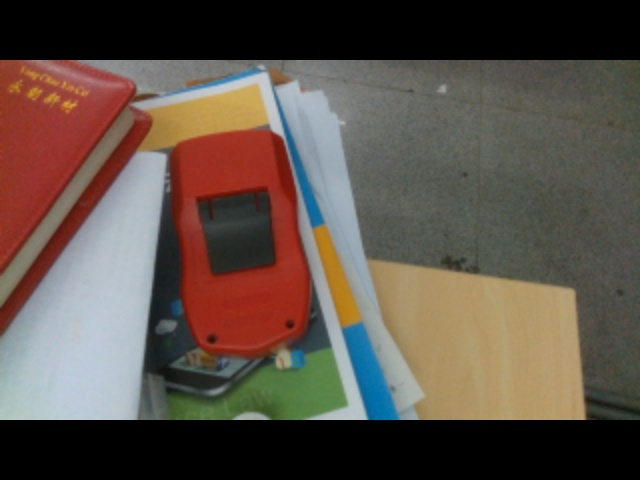Multimeter: (171, 126, 311, 356)
Screw holes: (204, 332, 219, 344), (284, 319, 298, 330)
